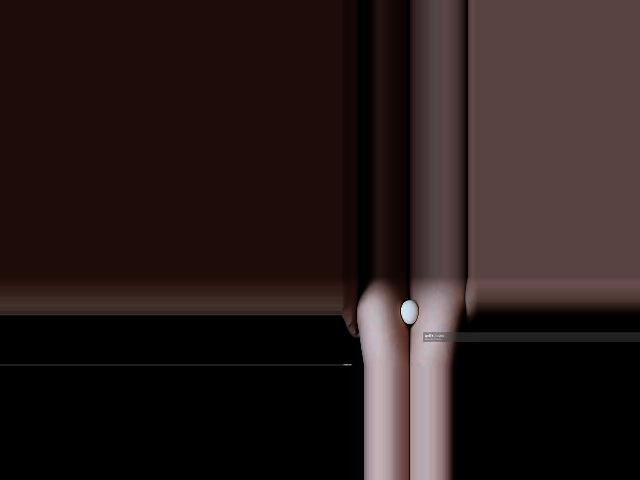egg: (400, 300, 418, 324)
